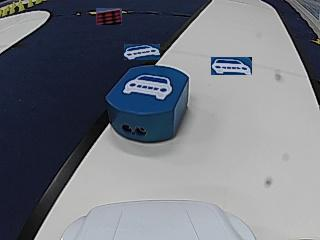safety: (123, 74, 174, 100)
